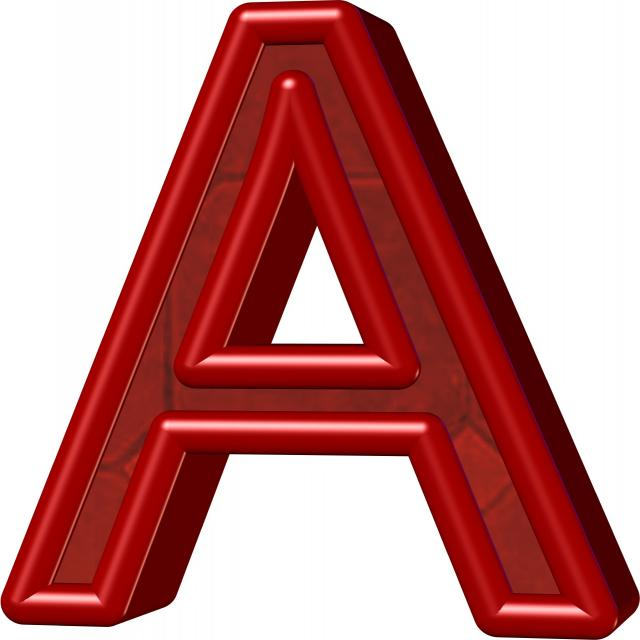A: (12, 13, 640, 639)
